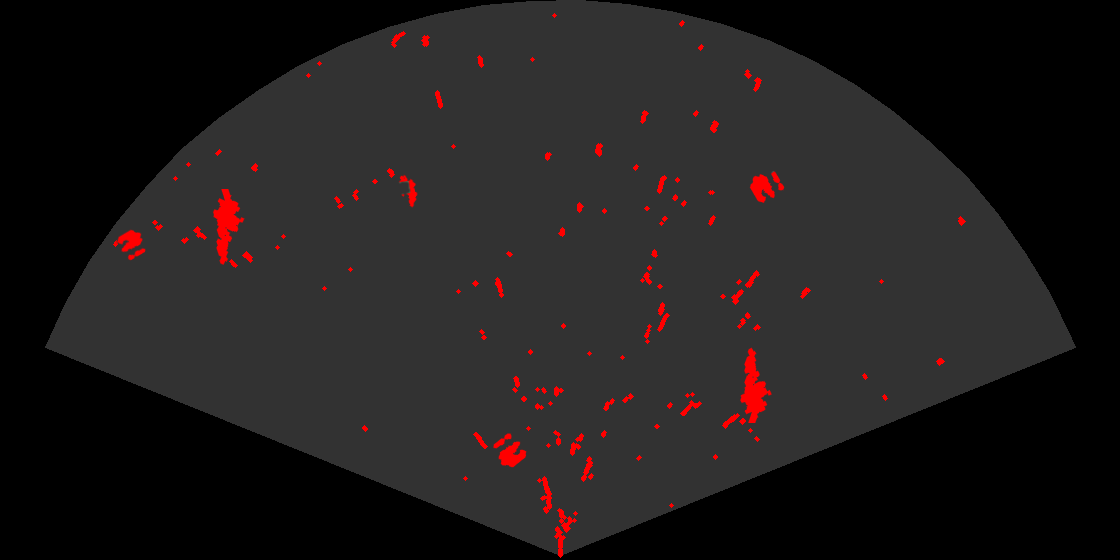AUV: (397, 173, 419, 209)
ball: (492, 432, 528, 469), (748, 170, 786, 205), (116, 228, 147, 262)
frogman: (211, 189, 246, 266), (739, 346, 773, 423)
